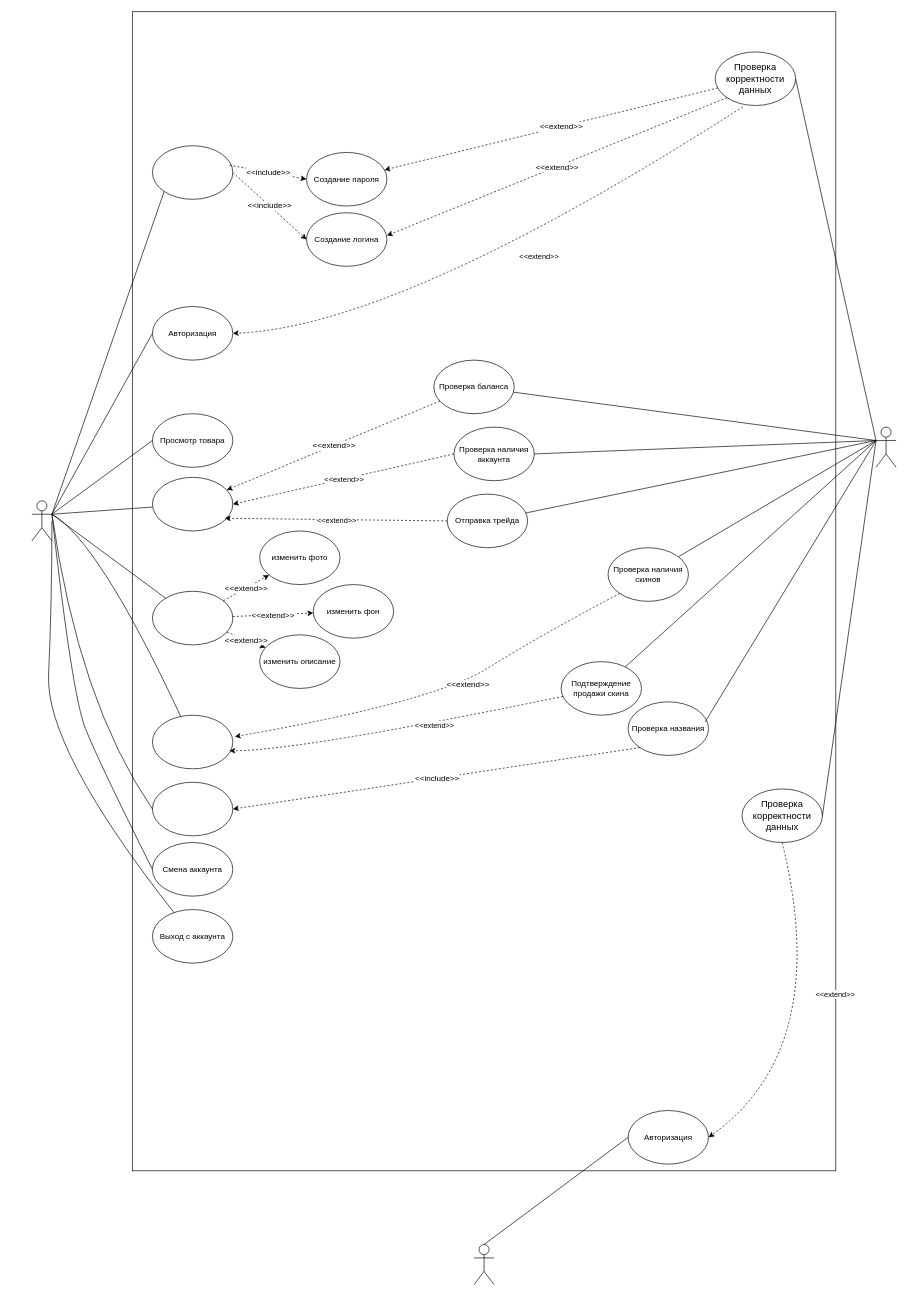
The diagram is 913 pixels wide and 1311 high, and some of its shapes have lost their labels. The centre of each missing label's shape, as x and y in pixels:
Изменить профиль: point (192, 618)
Поддержка: point (483, 1264)
Поиск по названию: point (192, 809)
Покупка товара: point (192, 504)
Пользователь: point (41, 520)
Продажа скинов: point (192, 742)
Регистрация: point (192, 172)
система: point (885, 446)
